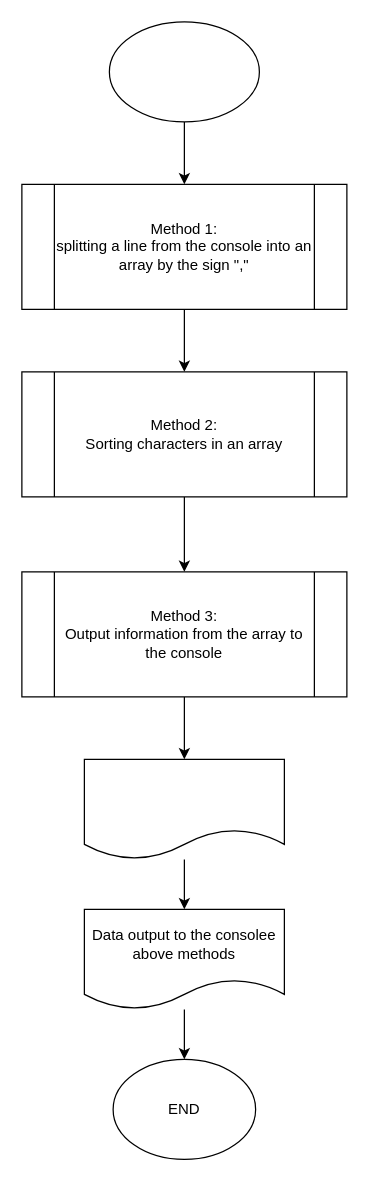
Some shapes in this 369 by 1181 pixel diagram are drawn without their labels. The shapes that lost their labels are listed below. From the top down, each one's centre as x and y in pixels, then its label:
point 183,71: START
point 183,808: Creating a custom text input to invoke the above methods
